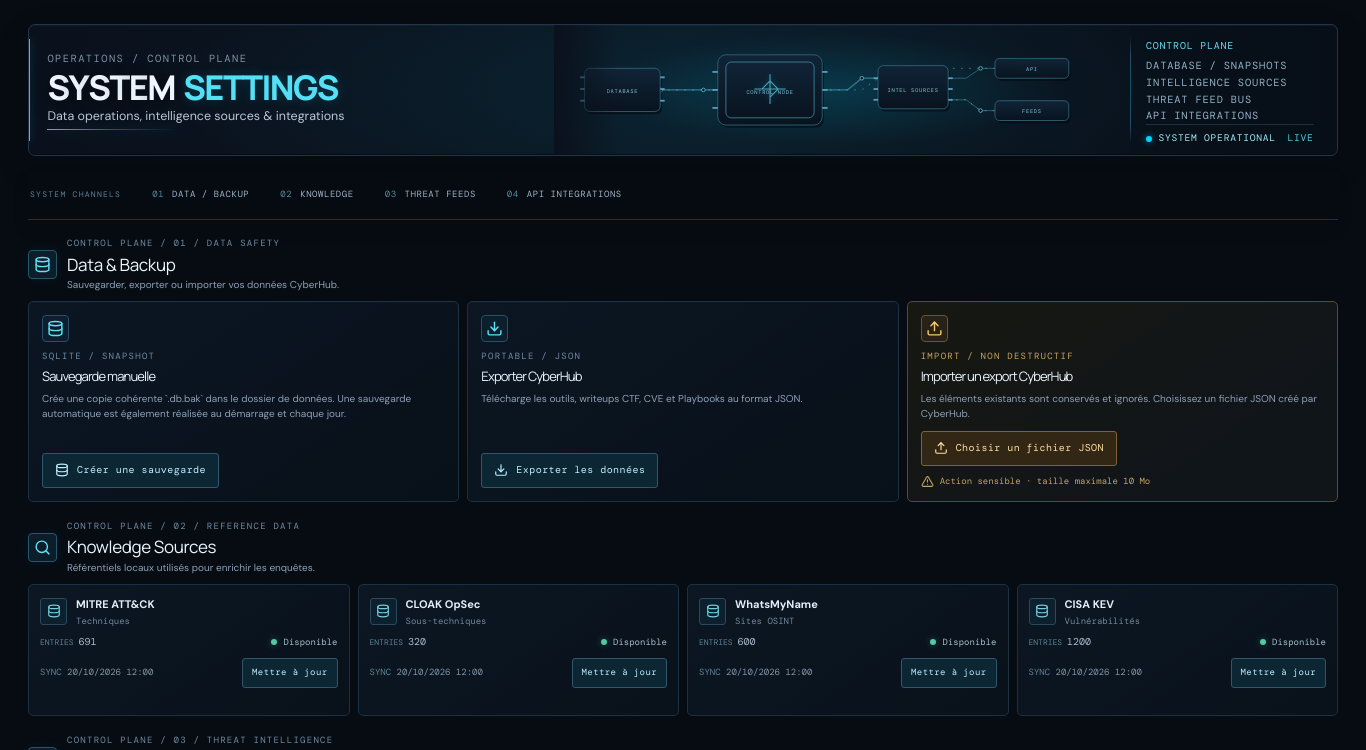
Test: Settings 2026 › exposes backup loading and disables repeated activation
Step 1. Click the button "Créer une sauvegarde" → (130, 470), box [42,452,219,488]
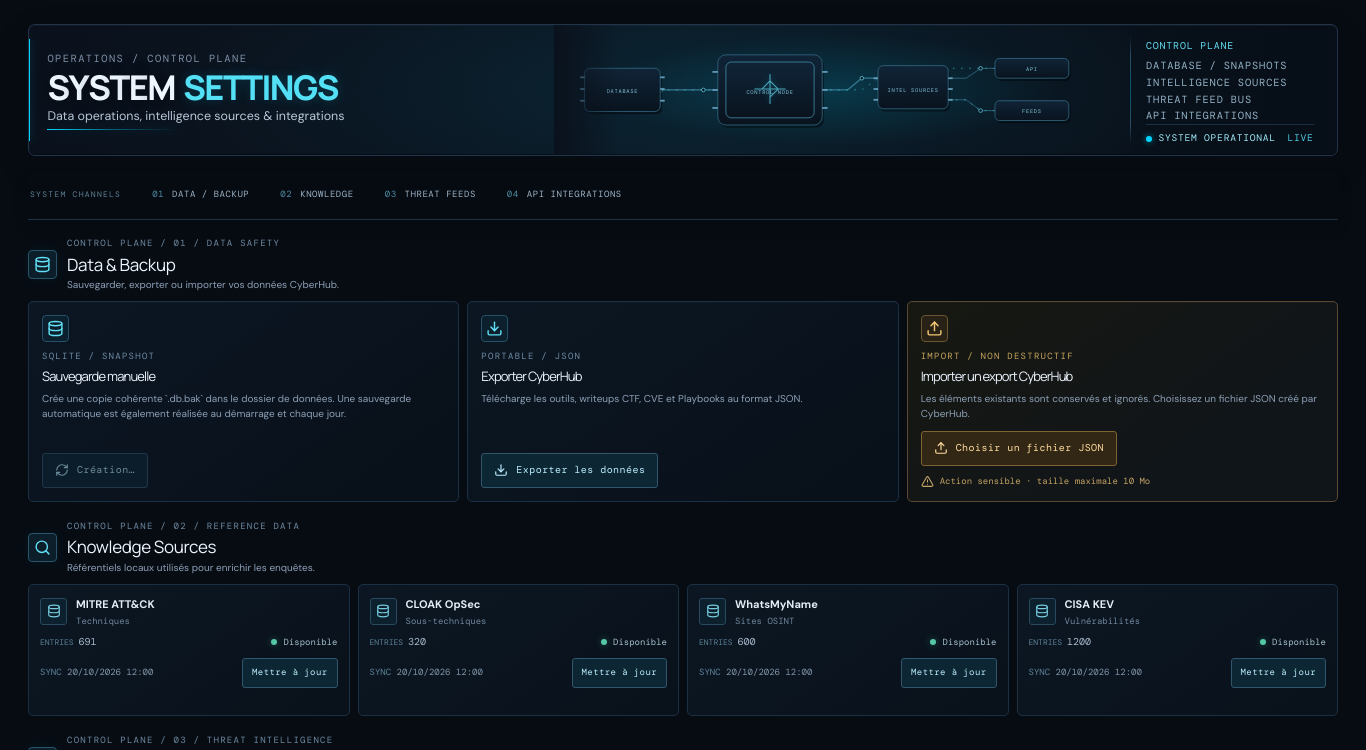
Now the button "Création…" has attribute aria-busy="true"
Step 2. Click the button "Création…" → (95, 470), box [42,452,148,488]
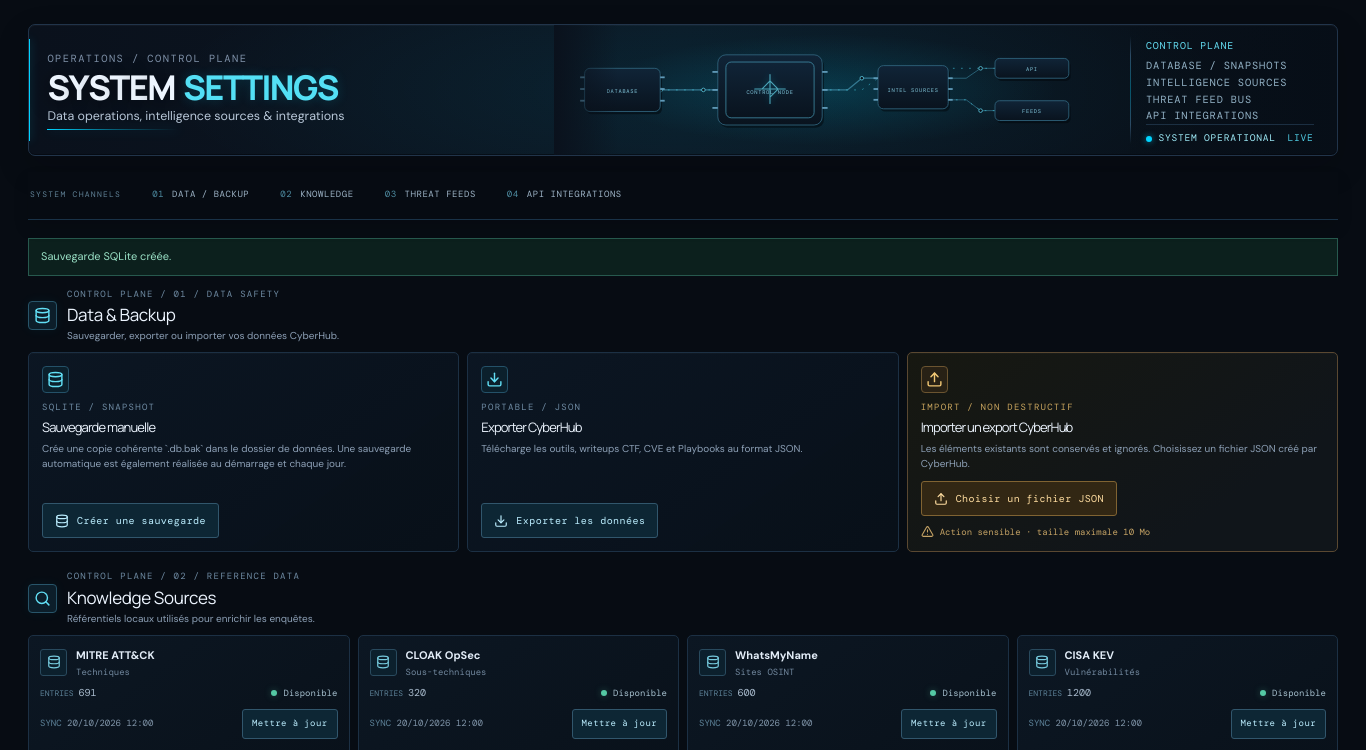
Now the message shows "Sauvegarde SQLite créée", box [41,249,171,263]
